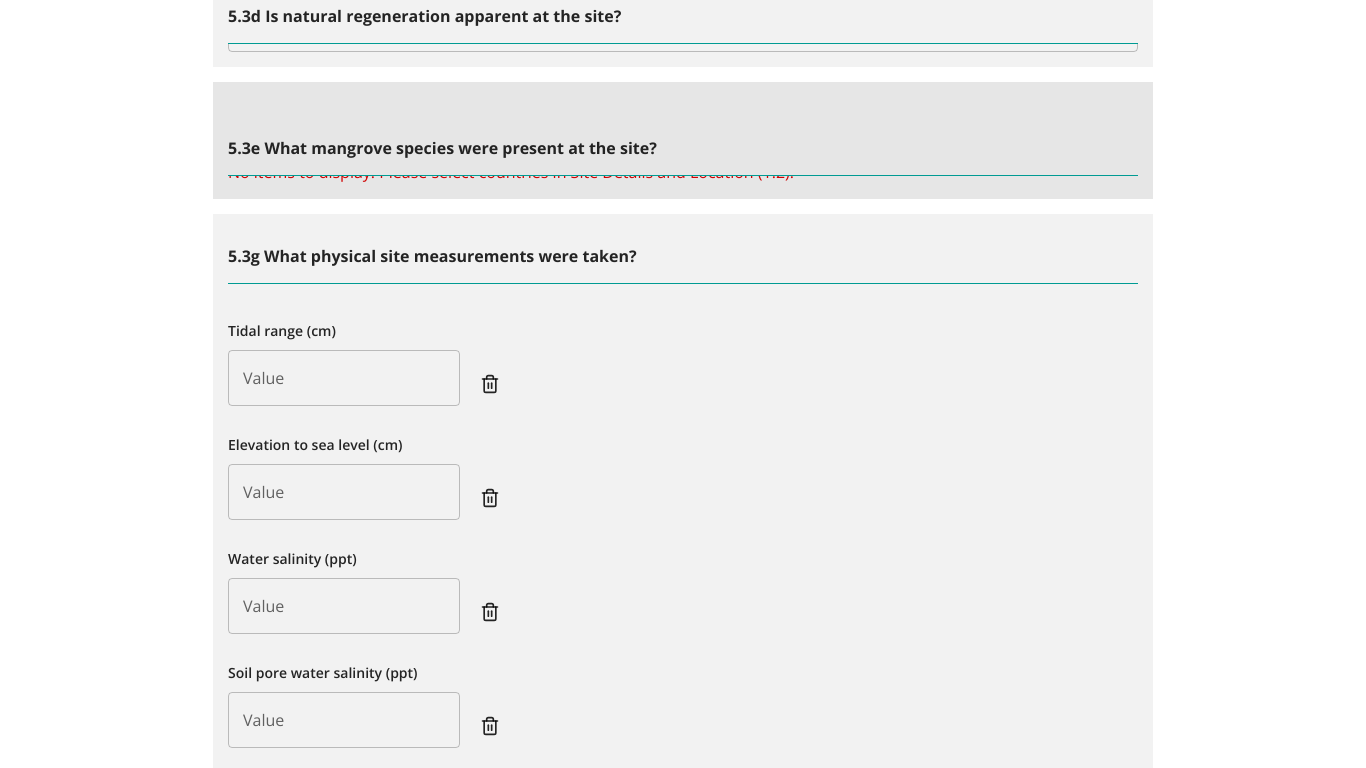
Scenario: section forms › PreRestorationAssessmentForm › removes a measurement row after confirming
(page scrolled)
Click the button named "Tidal range (cm)".
click(490, 384)  # box [468,362,512,406]
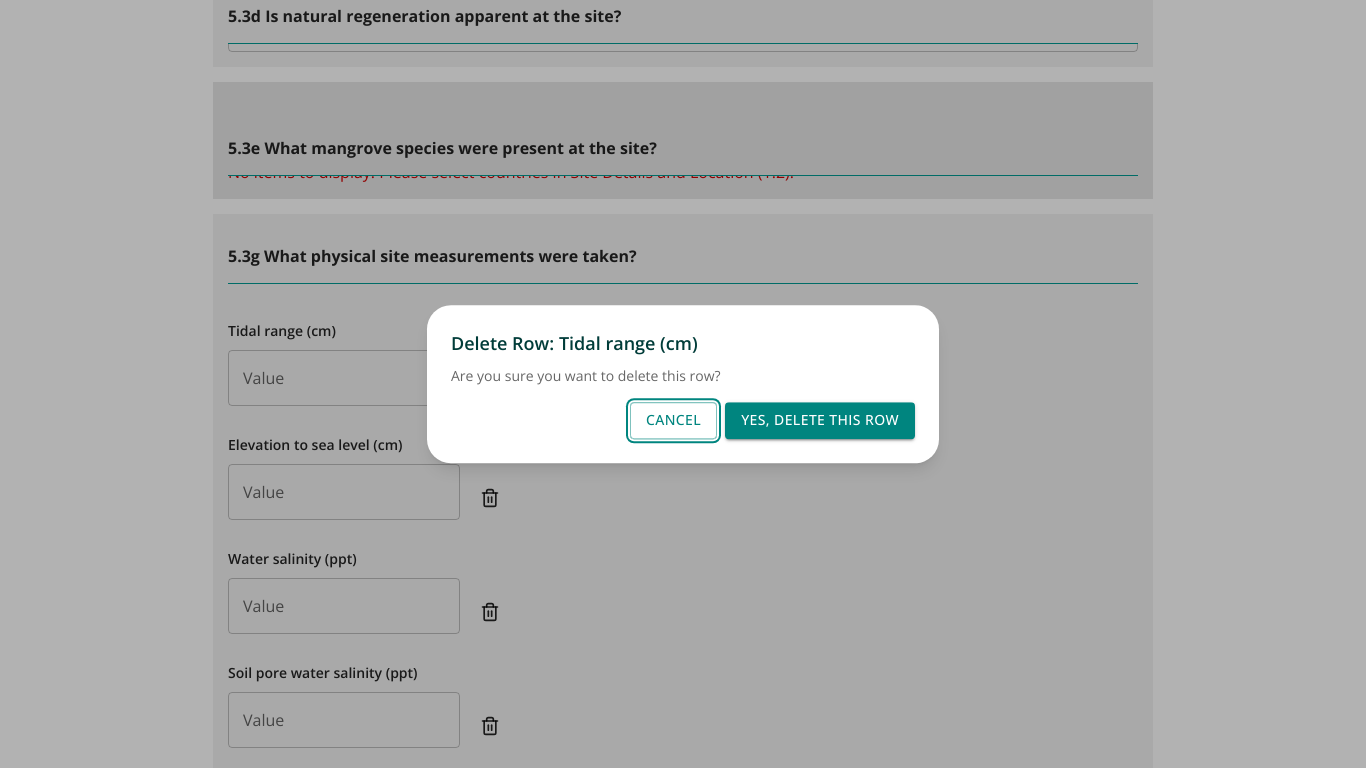
Click the button "Yes, delete this row".
click(820, 421)  # box [725,402,915,439]
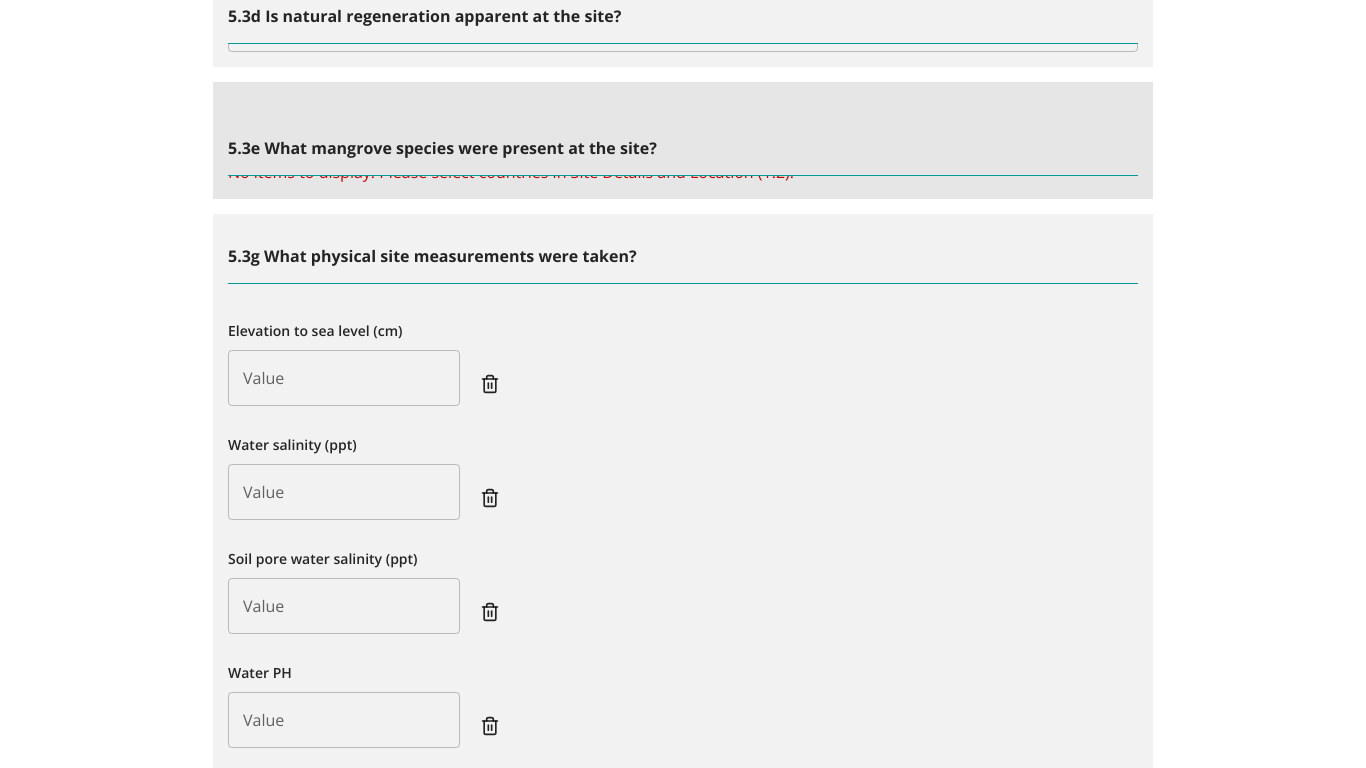
Check: the text labelled "Tidal range (cm)" is gone
